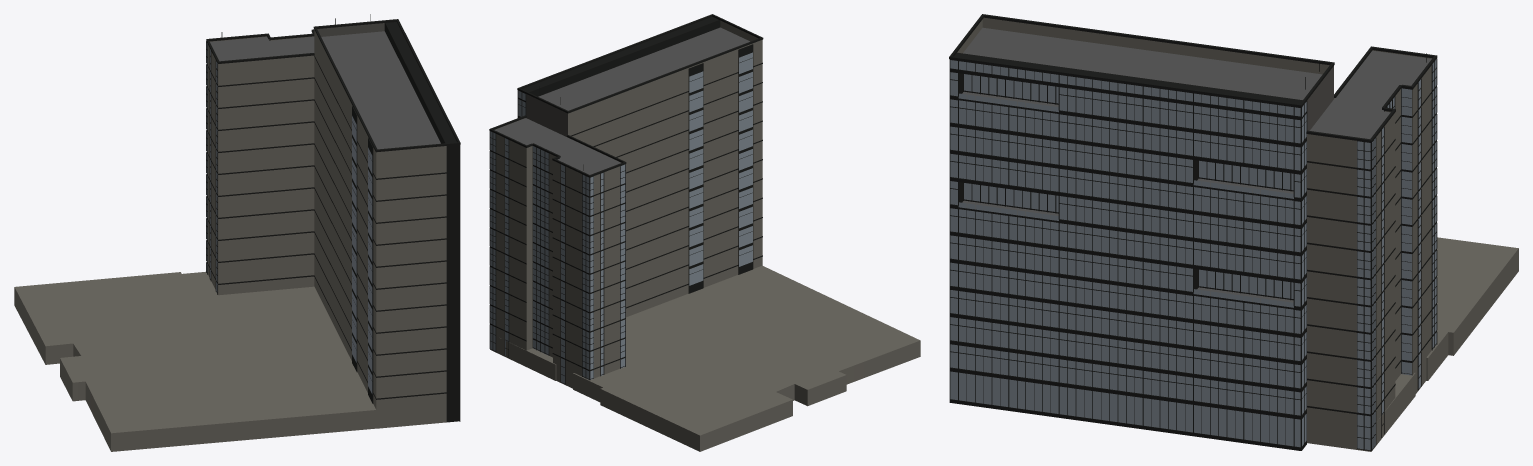
3 views of the same model, side by side, from view 1: azimuth 30°, elevation 25°; view 2: azimuth 150°, elevation 25°; view 3: azimuth 270°, elevation 25° (orthographic). The views are drawn at different scales.
Parts seen in each view (by area): view 1: opaque, glass; view 2: opaque, glass; view 3: glass, opaque.
Boxes of the visible parts, x1=… form: opaque: x1=14, y1=14, x2=460, y2=451; glass: x1=206, y1=42, x2=372, y2=393; opaque: x1=489, y1=14, x2=920, y2=451; glass: x1=490, y1=52, x2=752, y2=383; glass: x1=950, y1=59, x2=1436, y2=450; opaque: x1=949, y1=14, x2=1518, y2=451.
Bounding box in the file's own units: 97.09 × 71.23 × 103.
2 materials, 1 textured.
